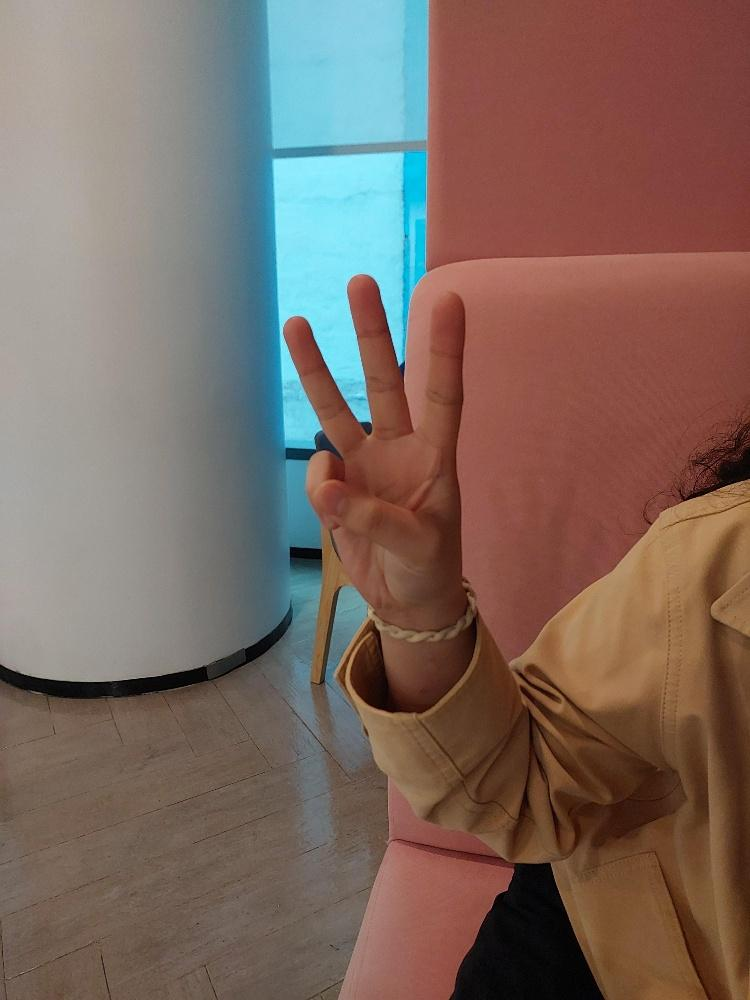w: (275, 260, 471, 622)
